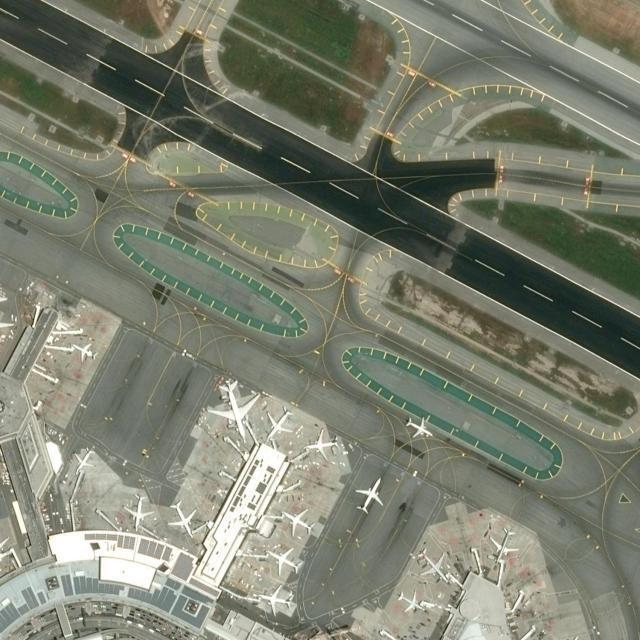Aircraft: (206, 380, 260, 438), (123, 493, 155, 531), (167, 499, 197, 539), (258, 583, 294, 616), (303, 428, 339, 461), (416, 547, 448, 583), (489, 526, 519, 564), (266, 546, 304, 576), (353, 477, 383, 515), (265, 405, 293, 441), (281, 507, 315, 536), (404, 416, 434, 440), (73, 447, 97, 475), (397, 590, 426, 612), (73, 342, 97, 362), (0, 525, 9, 563)
